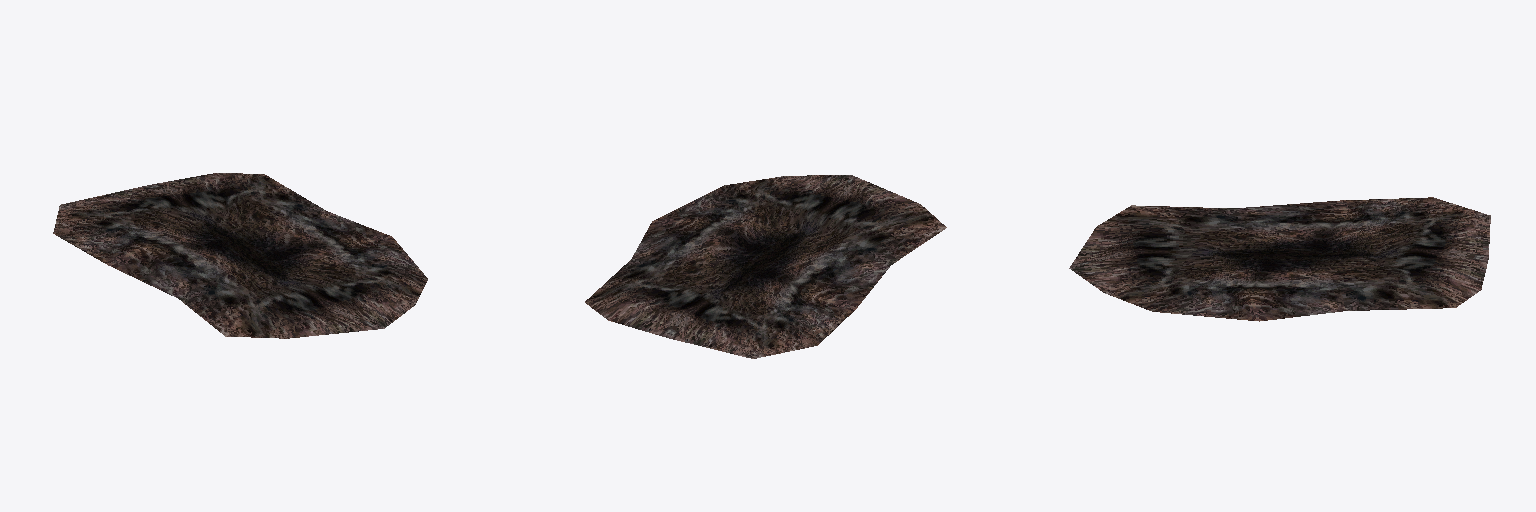
3 renders of one model, left to right at view 1: azimuth 30°, elevation 25°; view 2: azimuth 150°, elevation 25°; view 3: azimuth 270°, elevation 25°, orthographic.
Visible parts, largest first — view 1: Node 0; view 2: Node 0; view 3: Node 0.
Part boxes in pixels (x1,y1,x2,y2): Node 0: (53, 173, 427, 338); Node 0: (585, 175, 946, 358); Node 0: (1069, 197, 1490, 321).
Size of the model in its own units: 37.61 by 1.54 by 54.4.
Materials: 1 (1 with a texture image).